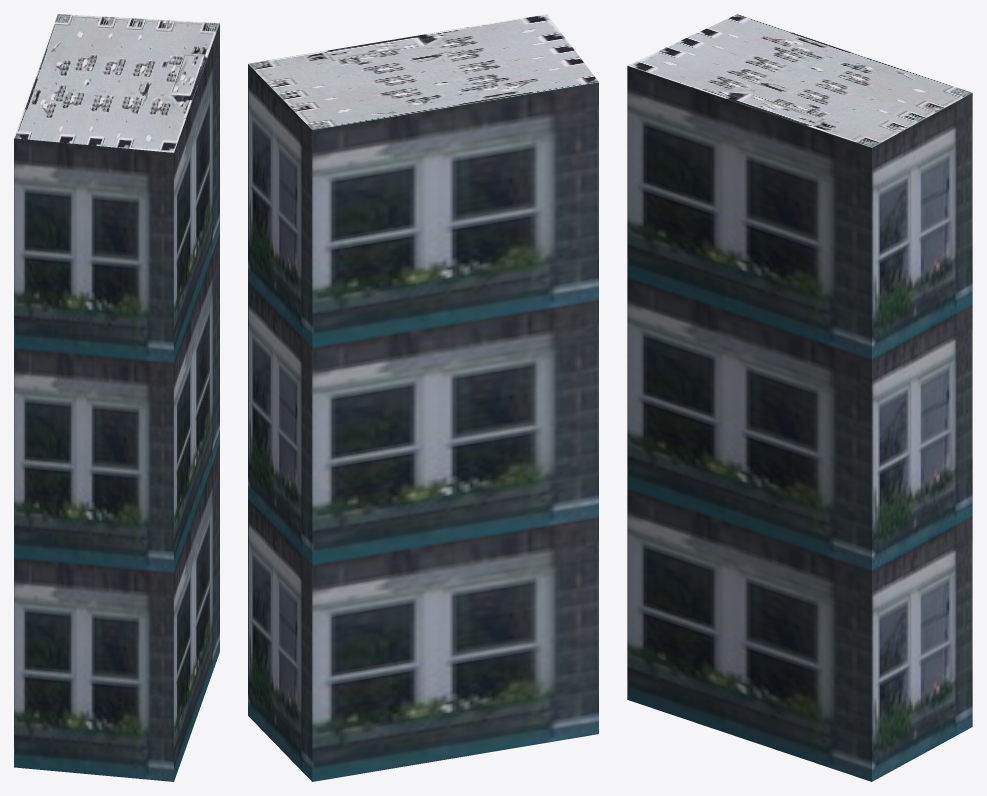
Rendered from ResTex__2194.fbx.
3 views of the same model, side by side, from view 1: azimuth 30°, elevation 25°; view 2: azimuth 150°, elevation 25°; view 3: azimuth 270°, elevation 25° (orthographic). The views are drawn at different scales.
Parts seen in each view (by area): view 1: CityEngineMaterial_11_m, CityEngineMaterial_4_m; view 2: CityEngineMaterial_11_m, CityEngineMaterial_4_m; view 3: CityEngineMaterial_11_m, CityEngineMaterial_4_m.
Boxes of the visible parts, x1,y1,x2,y2 form: CityEngineMaterial_11_m: (14, 23, 219, 781); CityEngineMaterial_4_m: (14, 14, 219, 152); CityEngineMaterial_11_m: (248, 64, 598, 781); CityEngineMaterial_4_m: (248, 14, 598, 129); CityEngineMaterial_11_m: (627, 66, 972, 781); CityEngineMaterial_4_m: (627, 14, 972, 147).
Size of the model in its own units: 4.07 by 9 by 4.44.
2 materials, 2 textured.
